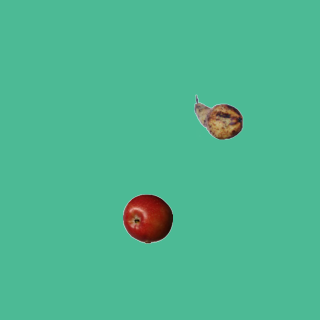Apple Braeburn: (122, 193, 172, 243)
Pear Abate: (193, 92, 243, 142)
